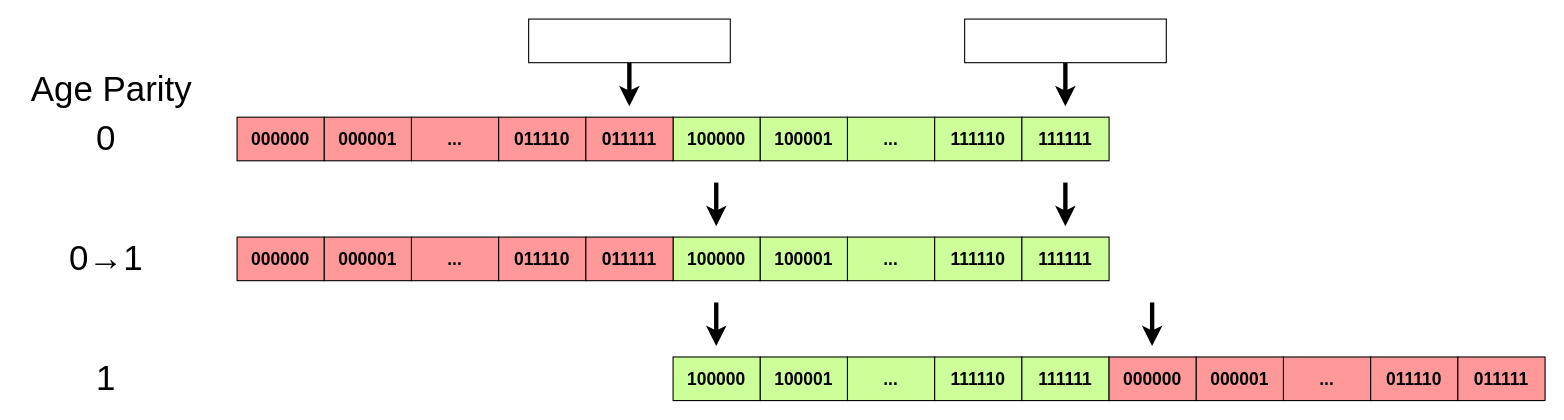
Some shapes in this 1564 by 420 pixel diagram are drawn without their labels. Here are the shapes that lost their labels. From the top down, the centre of each, then its label:
the point at 629,40: Last Committed
the point at 1065,40: Next To Issue
